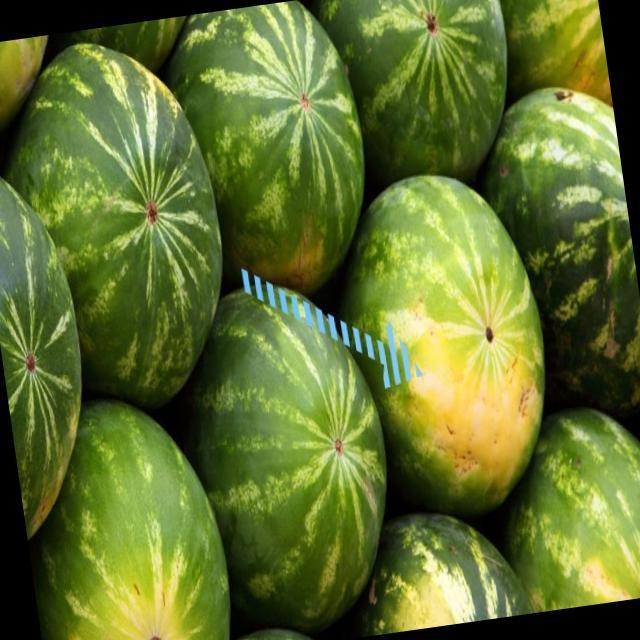WATERMELON: (0, 22, 242, 401), (352, 160, 578, 504), (187, 264, 406, 610), (12, 389, 250, 640), (177, 0, 371, 272), (0, 137, 112, 554), (503, 58, 640, 360), (493, 366, 640, 614), (344, 468, 523, 637), (345, 0, 521, 162), (504, 0, 611, 107)
